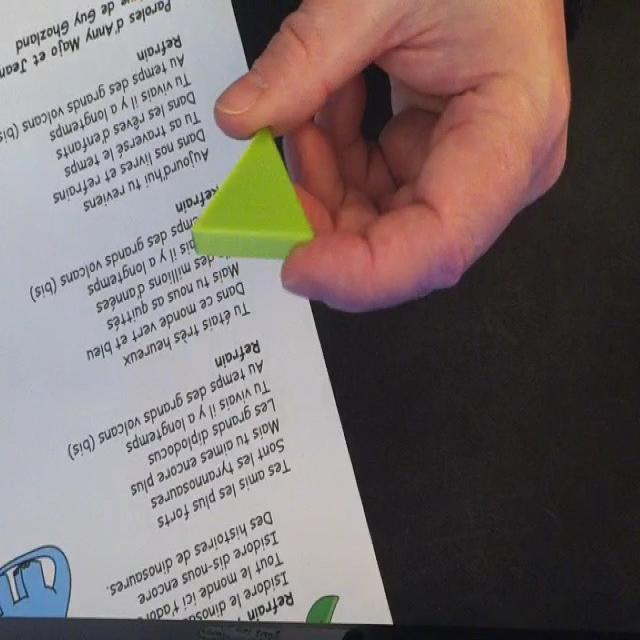triangle: (192, 123, 316, 264)
